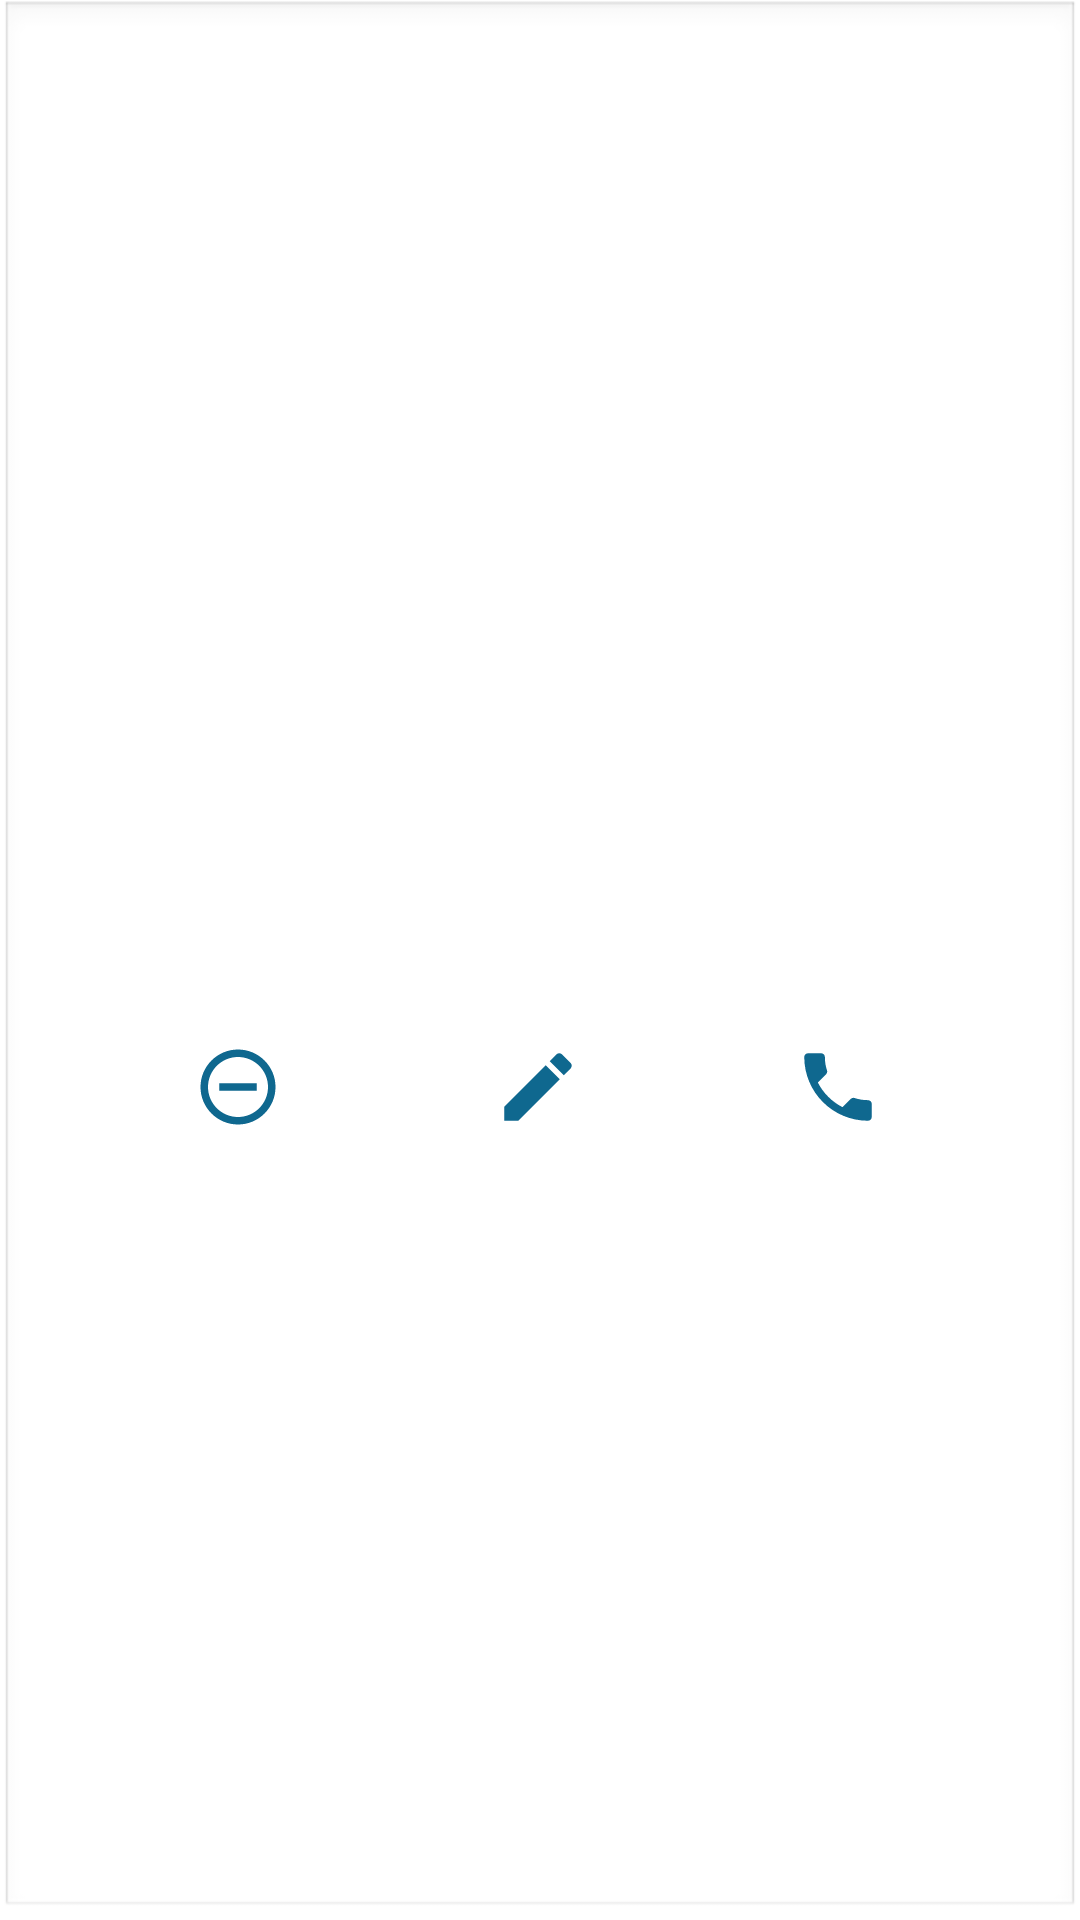

Where icons sit on this 1080px×1920px app screen, as bbox=(x1, y1, x2, y2):
edit: bbox=(504, 1053, 572, 1121)
phone: bbox=(804, 1053, 872, 1121)
remove: bbox=(200, 1049, 276, 1125)
